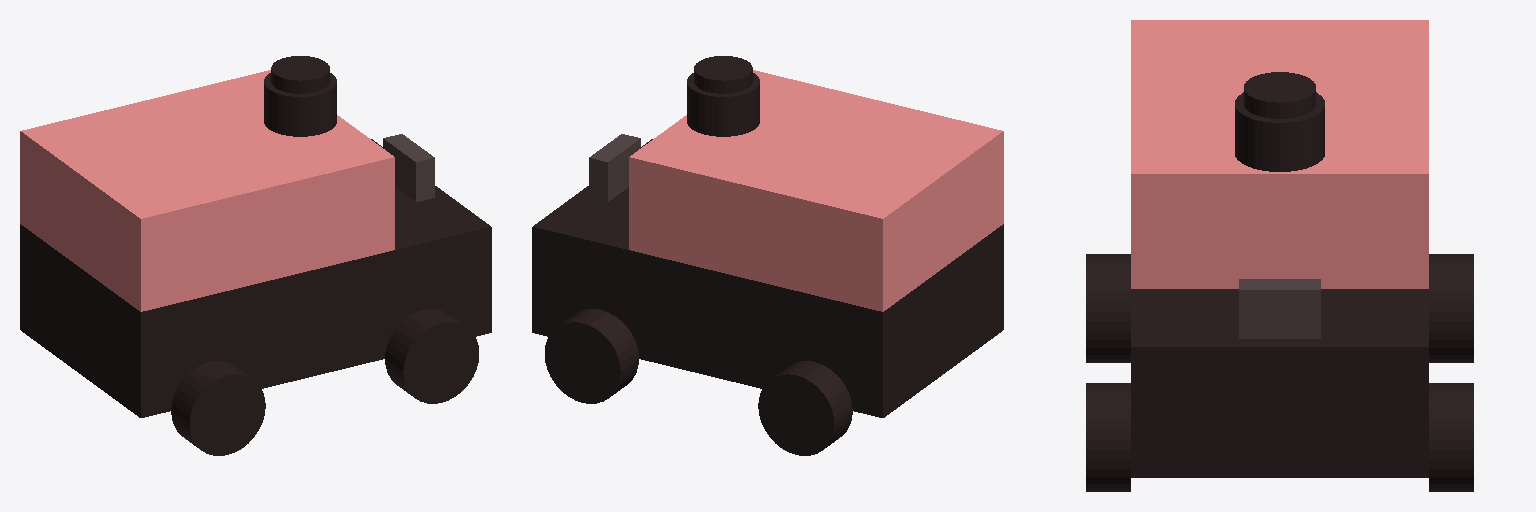
URDF robot description (mycar):
<?xml version="1.0" ?>
<!-- =================================================================================== -->
<!-- |    This document was autogenerated by xacro from origincar.xacro                | -->
<!-- |    EDITING THIS FILE BY HAND IS NOT RECOMMENDED                                 | -->
<!-- =================================================================================== -->
<robot name="mycar">
  <link name="base_footprint"/>
  <joint name="base_footprint_joint" type="fixed">
    <parent link="base_footprint"/>
    <child link="base_link"/>
    <origin xyz="0 0 0.03" rpy="0 0 0"/>
  </joint>
  <link name="base_link">
    <visual>
      <geometry>
        <box size="0.276 0.164 0.08"/>
      </geometry>
      <origin rpy="0 0 0" xyz="0 0 0.07"/>
      <material name="rgb(54, 42, 42)">
        <color rgba="0.21176470588235294 0.16470588235294117 0.16470588235294117 1.0"/>
      </material>
    </visual>
  </link>
  <link name="gyro_link"/>
  <joint name="gyro_joint" type="fixed">
    <parent link="base_link"/> <child link="gyro_link"/>
    <origin xyz="0 0 0" rpy="0 0 0"/>
  </joint>
  <link name="board_link">
    <visual>
      <geometry>
        <box size="0.200 0.164 0.06999999999999999"/>
      </geometry>
      <origin rpy="0 0 0" xyz="0 0 0.034999999999999996"/>
      <material name="rgba(246,152,152,1)">
        <color rgba="0.9647058823529412 0.596078431372549 0.596078431372549 1"/>
      </material>
    </visual>
  </link>
  <link name="camera">
    <visual>
      <geometry>
        <box size="0.015 0.045 0.03"/>
      </geometry>
      <origin rpy="0 0 0" xyz="0 0 0.015"/>
      <material name="rgba(93,78,78,1)">
        <color rgba="0.36470588235294116 0.3058823529411765 0.3058823529411765 1"/>
      </material>
    </visual>
  </link>
  <joint name="camera_joint" type="fixed">
    <parent link="base_link"/>
    <child link="camera"/>
    <origin rpy="0 0 0" xyz="0.12050000000000001 0 0.11"/>
  </joint>
  <joint name="board_joint" type="fixed">
    <parent link="base_link"/>
    <child link="board_link"/>
    <origin rpy="0 0 0" xyz="-0.038000000000000006 0 0.11"/>
    <axis xyz="0 1 0"/>
  </joint>
  <link name="down_left_Link">
    <visual>
      <origin rpy="-1.5707963 0 0" xyz="0 0.0 0"/>
      <geometry>
        <cylinder length="0.025" radius="0.03"/>
      </geometry>
      <material name="">
        <color rgba="0.21176470588235294 0.16470588235294117 0.16470588235294117 1.0"/>
      </material>
    </visual>
  </link>
  <joint name="down_left_joint" type="continuous">
    <parent link="base_link"/>
    <child link="down_left_Link"/>
    <origin rpy="0 0 0" xyz="-0.0841 0.0945 0.03"/>
    <axis xyz="0 1 0"/>
  </joint>
  <link name="down_right_Link">
    <visual>
      <origin rpy="1.5707963 0 0" xyz="0 0.0 0"/>
      <geometry>
        <cylinder length="0.025" radius="0.03"/>
      </geometry>
      <material name="">
        <color rgba="0.21176470588235294 0.16470588235294117 0.16470588235294117 1.0"/>
      </material>
    </visual>
  </link>
  <joint name="down_right_joint" type="continuous">
    <parent link="base_link"/>
    <child link="down_right_Link"/>
    <origin rpy="0 0 0" xyz="-0.0841 -0.0945 0.03"/>
    <axis xyz="0 -1 0"/>
  </joint>
  <link name="up_left_Link">
    <visual>
      <origin rpy="-1.5707963 0 0" xyz="0 0.0 0"/>
      <geometry>
        <cylinder length="0.025" radius="0.03"/>
      </geometry>
      <material name="">
        <color rgba="0.21176470588235294 0.16470588235294117 0.16470588235294117 1.0"/>
      </material>
    </visual>
  </link>
  <joint name="up_left_joint" type="continuous">
    <parent link="base_link"/>
    <child link="up_left_Link"/>
    <origin rpy="0 0 0" xyz="0.0841 0.0945 0.03"/>
    <axis xyz="0 1 0"/>
  </joint>
  <link name="up_right_Link">
    <visual>
      <origin rpy="1.5707963 0 0" xyz="0 0.0 0"/>
      <geometry>
        <cylinder length="0.025" radius="0.03"/>
      </geometry>
      <material name="">
        <color rgba="0.21176470588235294 0.16470588235294117 0.16470588235294117 1.0"/>
      </material>
    </visual>
  </link>
  <joint name="up_right_joint" type="continuous">
    <parent link="base_link"/>
    <child link="up_right_Link"/>
    <origin rpy="0 0 0" xyz="0.0841 -0.0945 0.03"/>
    <axis xyz="0 -1 0"/>
  </joint>

  <link name="laser">
    <visual>
      <origin xyz="0 0 0.015" rpy="0 0 0"/> 
      <geometry>
        <cylinder length="0.03" radius="0.025"/> </geometry>
      <material name="dark_brown">
        <color rgba="0.21176470588235294 0.16470588235294117 0.16470588235294117 1.0"/>
      </material>
    </visual>

    <visual>
      <origin xyz="0 0 0.035" rpy="0 0 0"/> 
      <geometry>
        <cylinder length="0.01" radius="0.020"/> 
      </geometry>
      <material name="dark_brown"/>
    </visual>
  </link>

  <joint name="laser_joint" type="fixed">
    <parent link="board_link"/>
    <child link="laser"/>
    <origin xyz="0.073 0 0.07" rpy="0 0 0"/> 
  </joint>

</robot>

--- What the picture shows (computed from the rendered views, not written in the file) ---
Views: 3 orthographic renders of the robot side by side, from view 1: azimuth 30°, elevation 25°; view 2: azimuth 150°, elevation 25°; view 3: azimuth 270°, elevation 25°.
Robot: mycar — 10 links, 9 joints (4 continuous, 5 fixed); root link base_footprint; default pose: every joint at zero.
Links seen in each view (by area): view 1: board_link, base_link, down_right_Link, up_right_Link, laser, camera; view 2: board_link, base_link, down_left_Link, up_left_Link, laser, camera; view 3: board_link, base_link, laser, camera, down_left_Link, down_right_Link, up_left_Link, up_right_Link.
Link boxes in pixels (<box>): board_link: <box>20,70,394,311</box>; base_link: <box>20,139,491,417</box>; down_right_Link: <box>171,361,265,455</box>; up_right_Link: <box>385,309,478,403</box>; laser: <box>264,56,336,136</box>; camera: <box>383,134,434,201</box>; board_link: <box>629,70,1003,311</box>; base_link: <box>532,139,1003,417</box>; down_left_Link: <box>758,361,852,455</box>; up_left_Link: <box>545,309,638,403</box>; laser: <box>687,56,759,136</box>; camera: <box>589,134,640,201</box>; board_link: <box>1131,20,1428,288</box>; base_link: <box>1131,289,1428,477</box>; laser: <box>1235,72,1324,171</box>; camera: <box>1239,279,1320,338</box>; down_left_Link: <box>1429,254,1473,362</box>; down_right_Link: <box>1086,254,1130,362</box>; up_left_Link: <box>1429,383,1473,491</box>; up_right_Link: <box>1086,383,1130,491</box>.
Size in the robot's own frame: 0.276 by 0.214 by 0.22 metres.
Geometry: primitives only (box / cylinder / sphere), no mesh files.
